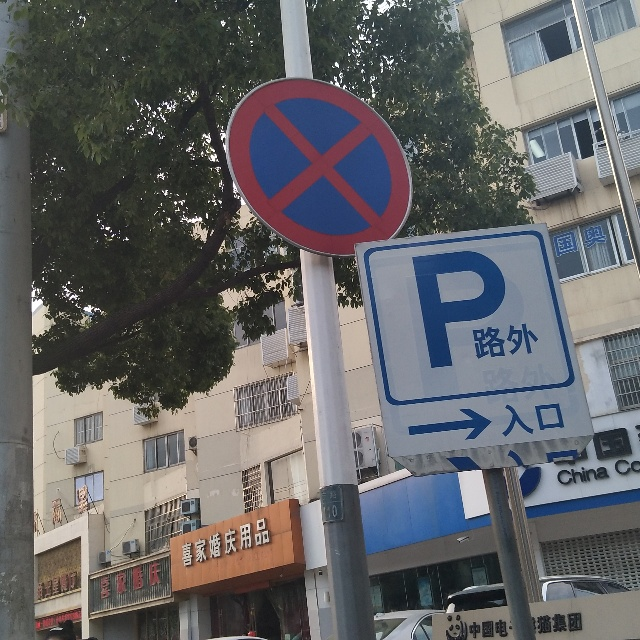stop: (248, 96, 386, 236)
